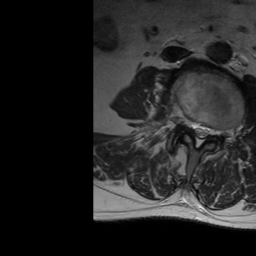CCS_normal: (195, 116, 202, 153)
LFS_stenosis: (211, 121, 219, 141)
LLS_normal: (202, 120, 210, 143)
RFS_normal: (183, 111, 190, 133)
RLS_normal: (190, 115, 198, 139)
